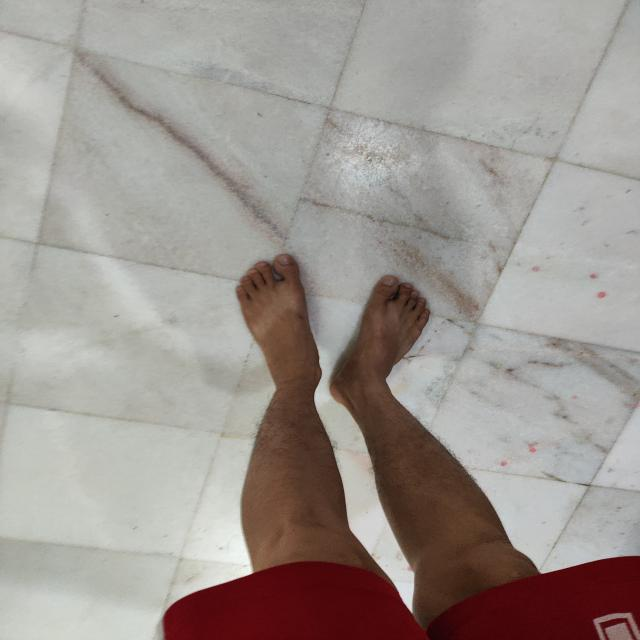No_Shoes: (197, 249, 320, 401), (336, 260, 432, 412)
